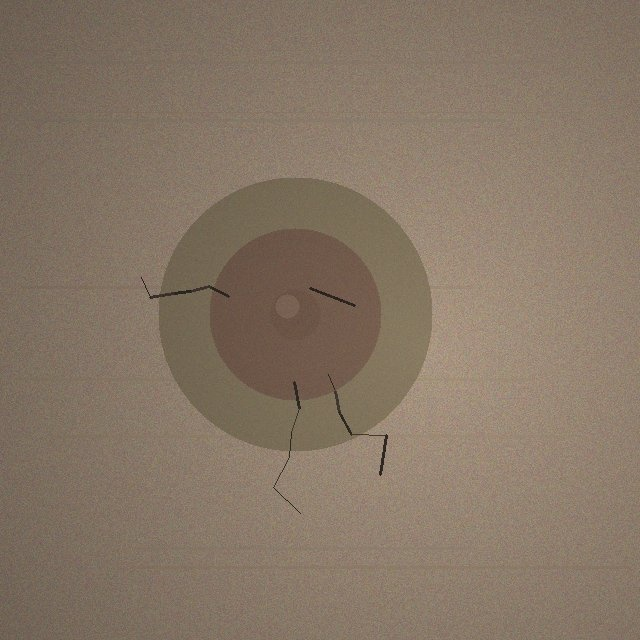crack: (158, 177, 432, 451)
